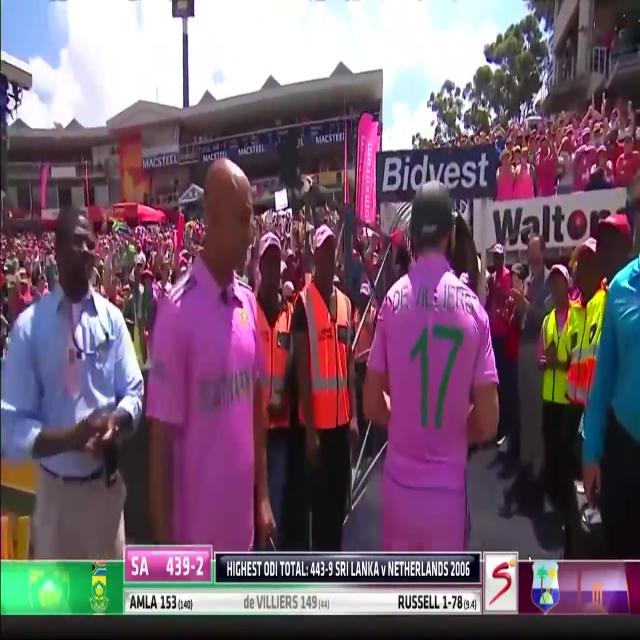Ball: (337, 184, 508, 552)
